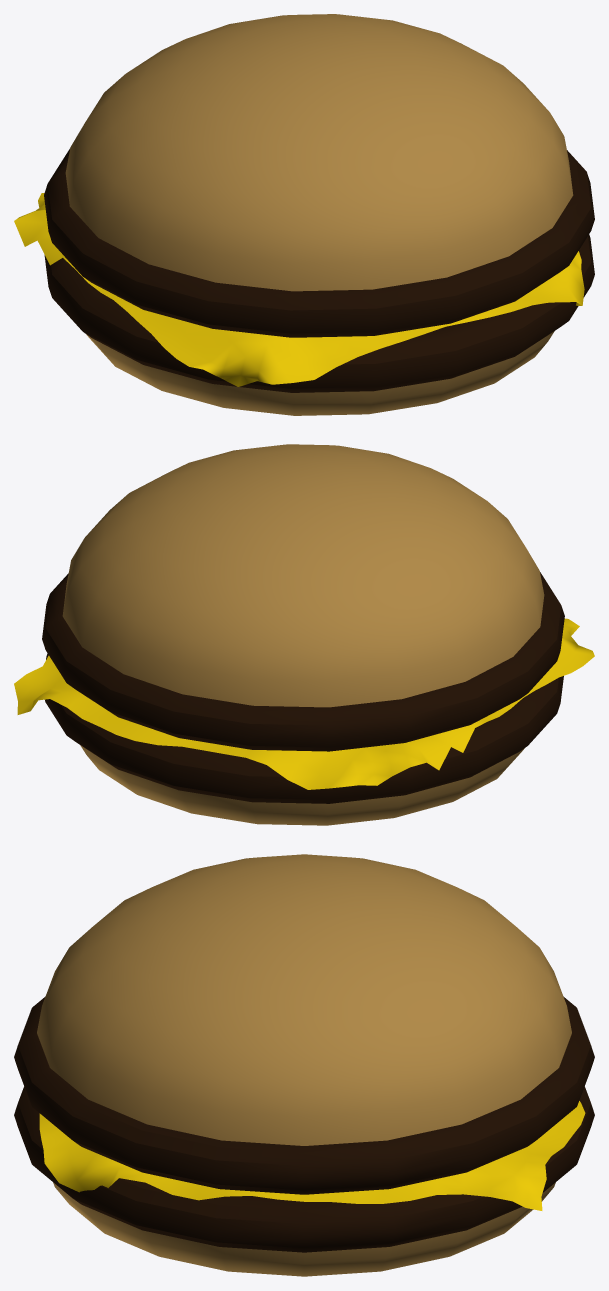
Rendered from burger.fbx.
3 renders of one model, top to bottom at view 1: azimuth 30°, elevation 25°; view 2: azimuth 150°, elevation 25°; view 3: azimuth 270°, elevation 25°, orthographic. The views are drawn at different scales.
Parts seen in each view (by area): view 1: Cheeseburger; view 2: Cheeseburger; view 3: Cheeseburger.
Boxes of the visible parts, x1,y1,x2,y2 form: Cheeseburger: [14, 14, 594, 415]; Cheeseburger: [14, 444, 594, 825]; Cheeseburger: [14, 854, 594, 1276].
Bounding box in the file's own units: 2.17 × 1.24 × 2.17.
